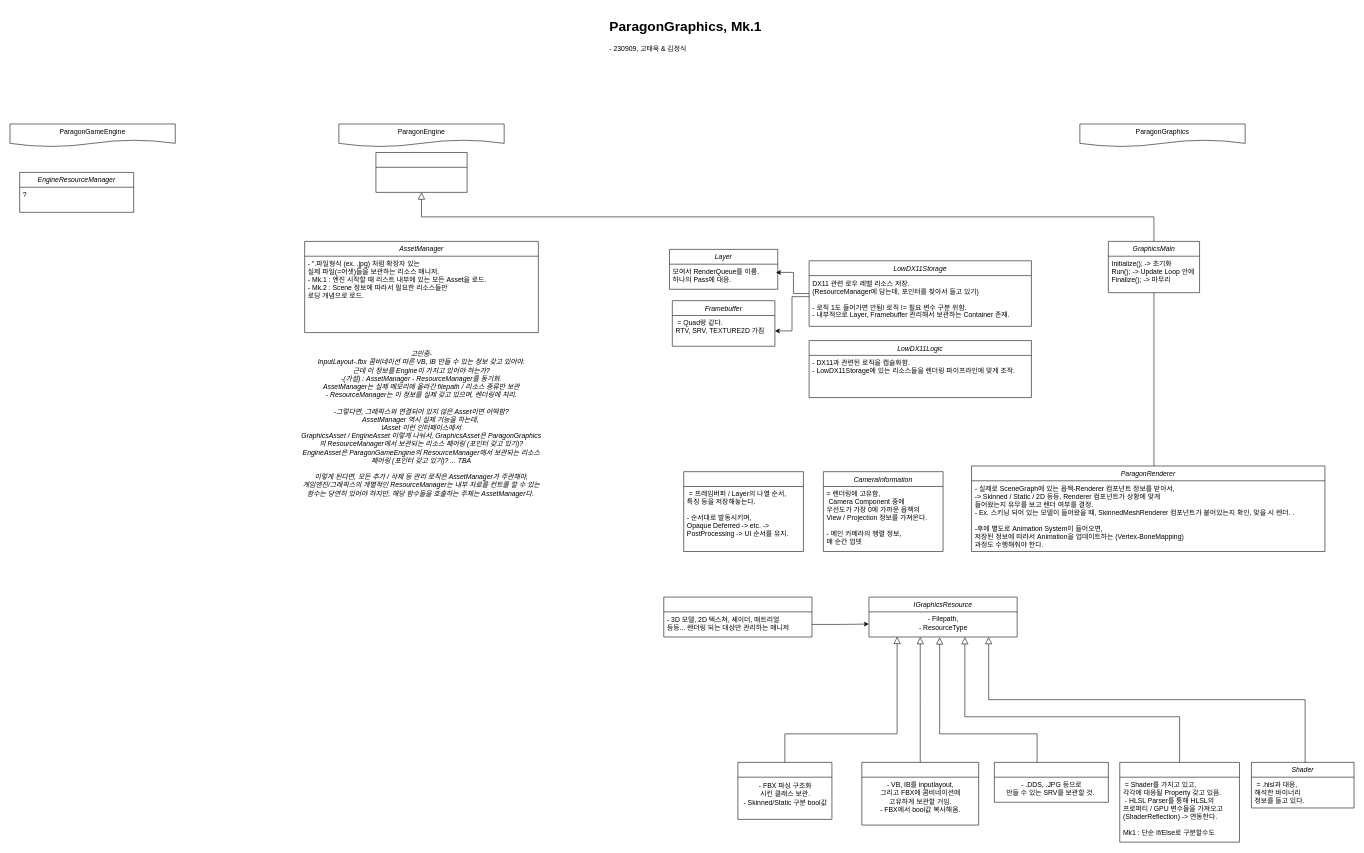
Some shapes in this 1364 by 853 pixel diagram are drawn without their labels. Here are the shapes that lost their labels. From the top down, the box of each, then its label:
(375, 152, 467, 192): IGraphicsInterface
(683, 471, 803, 551): RenderQueue
(663, 597, 812, 637): GraphicsResourceManager
(737, 762, 832, 819): Mesh3D
(861, 762, 979, 825): Formation
(994, 762, 1108, 802): Texture2D
(1119, 762, 1239, 842): ShaderMaterial
